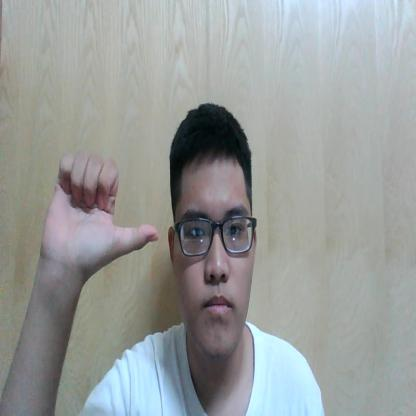left: (43, 150, 159, 272)
